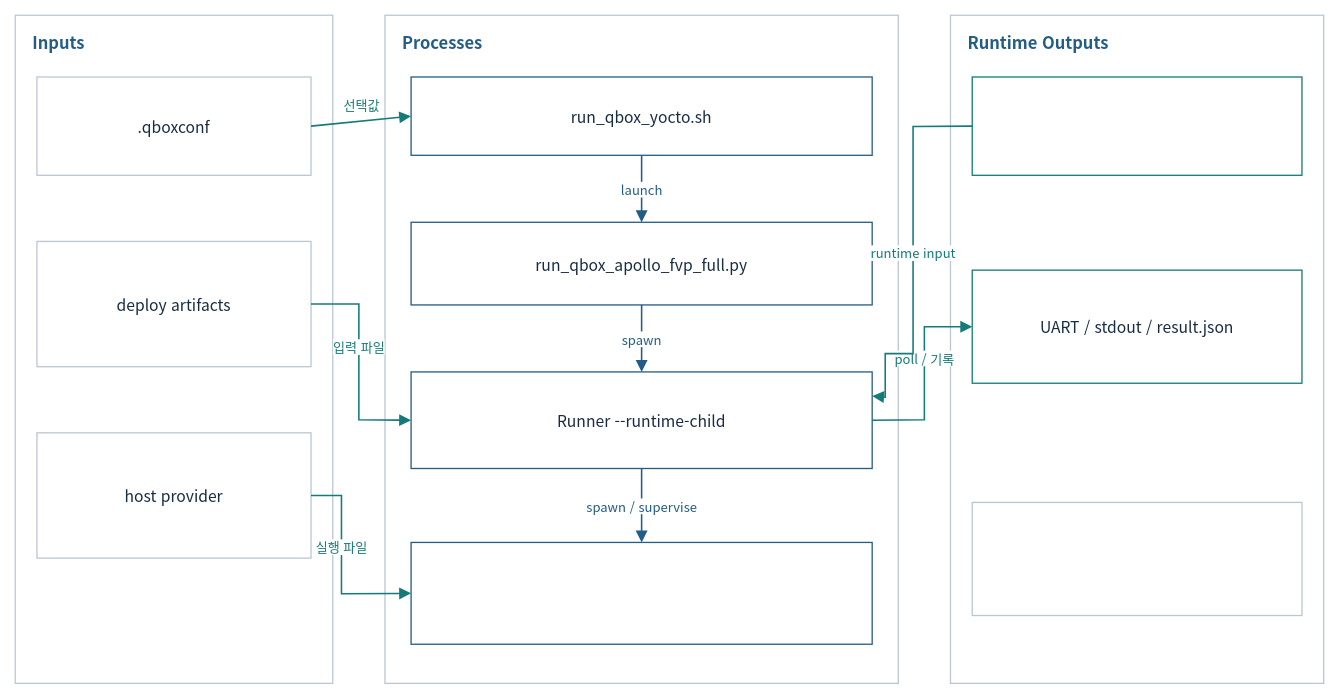
This 1340x699 diagram has some shape labels left out. Each missing label, with the box of its shape:
Debug / Monitor: (971, 501, 1302, 616)
platforms-vp: (410, 541, 872, 644)
Writable State: (971, 76, 1302, 176)
